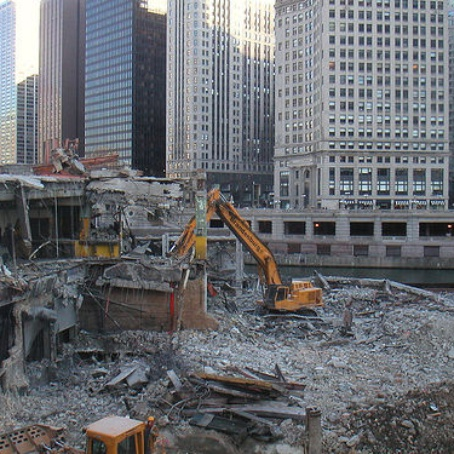building: (1, 164, 197, 442), (283, 1, 454, 216), (166, 1, 277, 201), (75, 1, 171, 184), (31, 1, 85, 174), (1, 1, 34, 170)
debris: (231, 295, 454, 454)
excavator: (171, 190, 327, 322)
